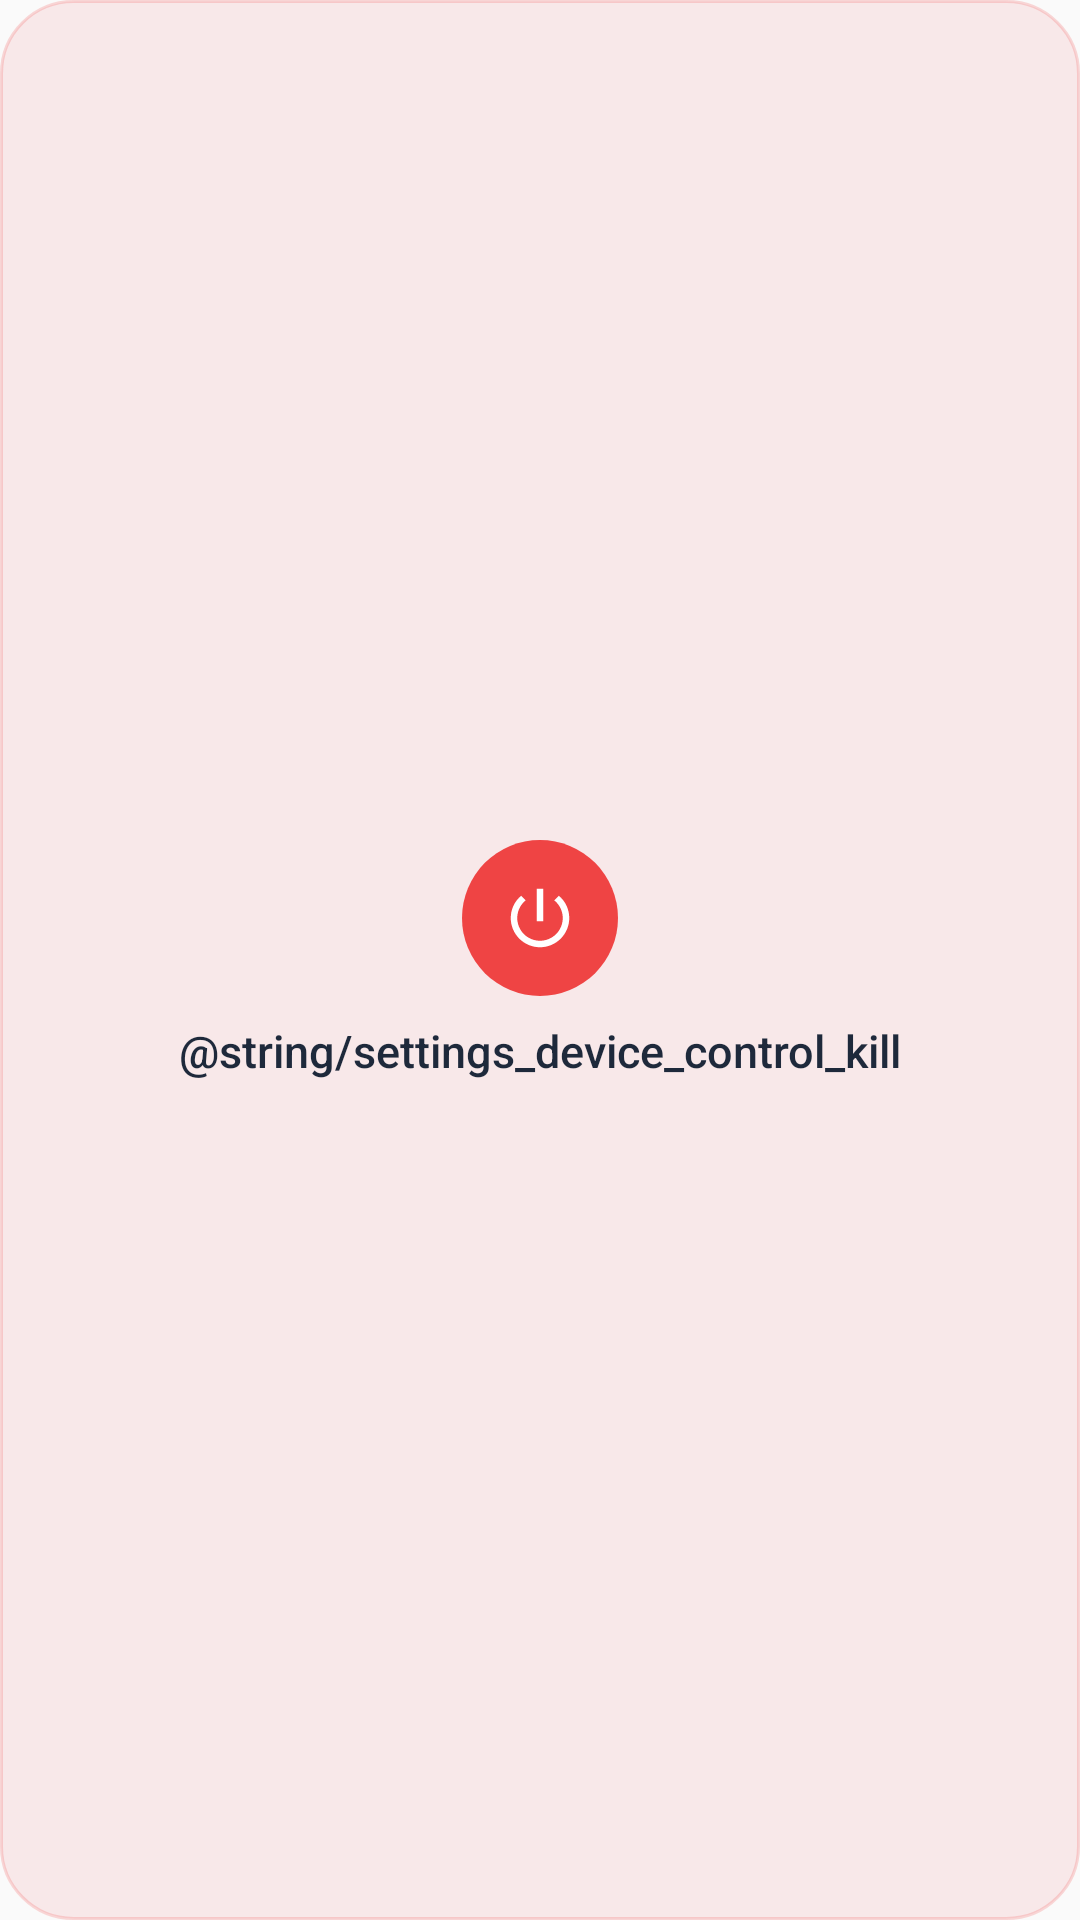

Point at icon controls on the screen. Image size 1080×1920, points as [x,y].
widget action exit: [540,918]
